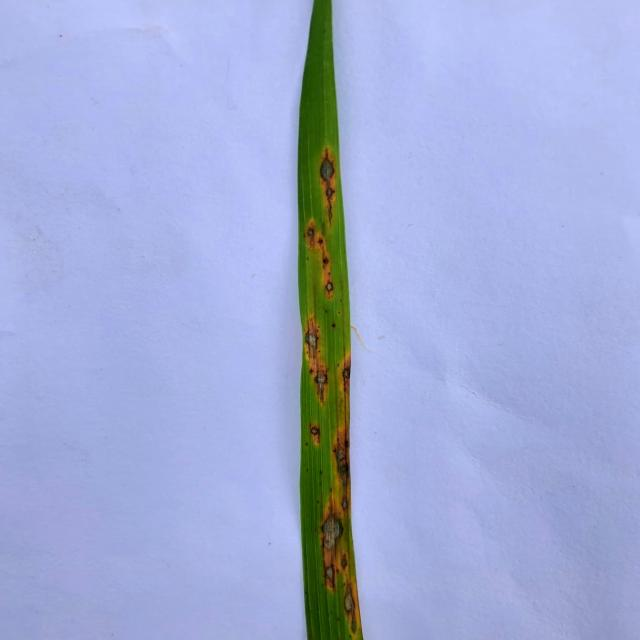leaf blast: (316, 146, 340, 223), (332, 426, 352, 513), (318, 506, 345, 561), (304, 310, 323, 367), (341, 582, 358, 640), (314, 357, 332, 405), (321, 560, 339, 594), (307, 416, 323, 449)
